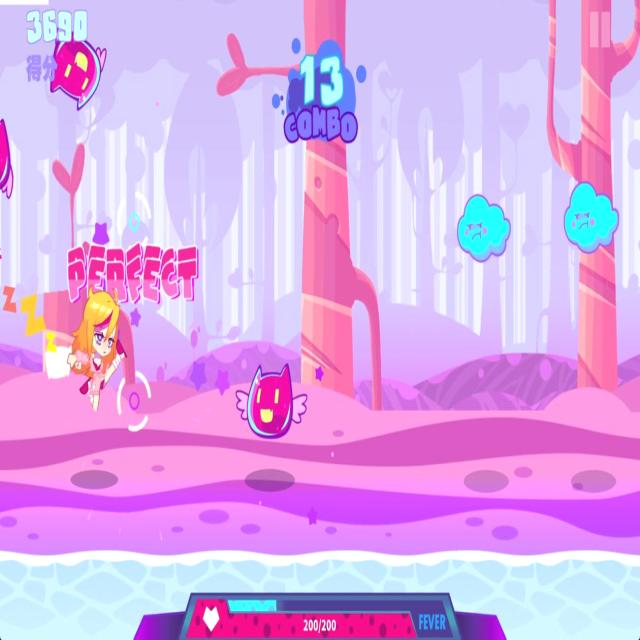mao: (234, 357, 310, 440), (46, 20, 110, 112)
yun: (562, 176, 620, 257), (455, 187, 511, 269)
